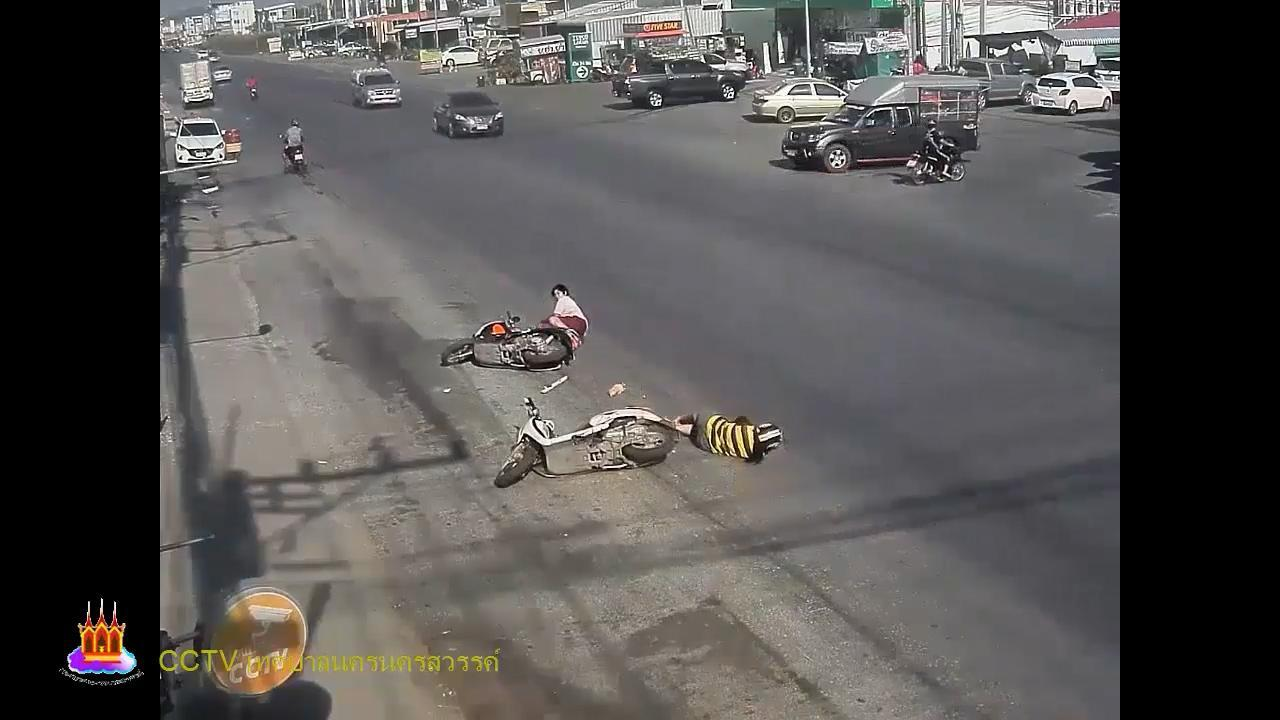accident: (670, 414, 789, 471), (540, 283, 593, 352)
